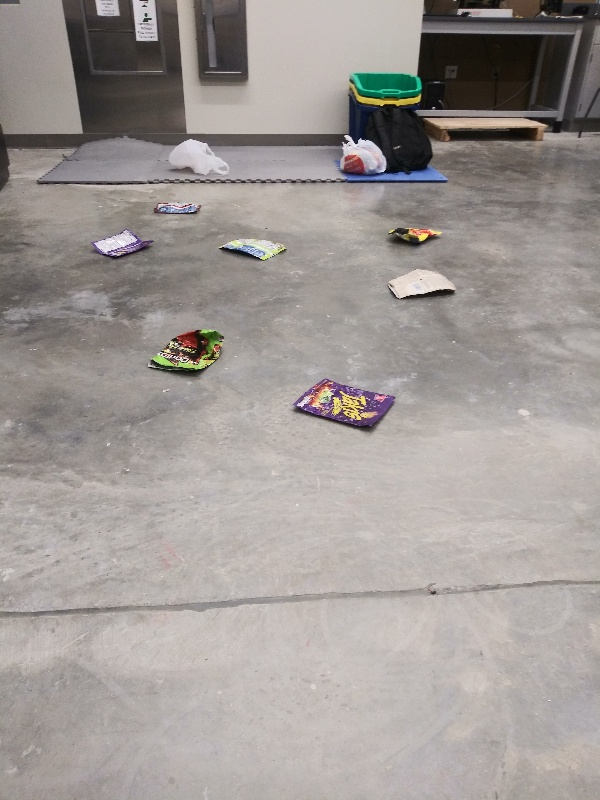bag: (289, 373, 399, 435), (147, 324, 229, 380), (386, 264, 462, 301), (215, 234, 295, 267), (86, 227, 162, 261), (386, 221, 444, 246), (146, 199, 210, 216)
